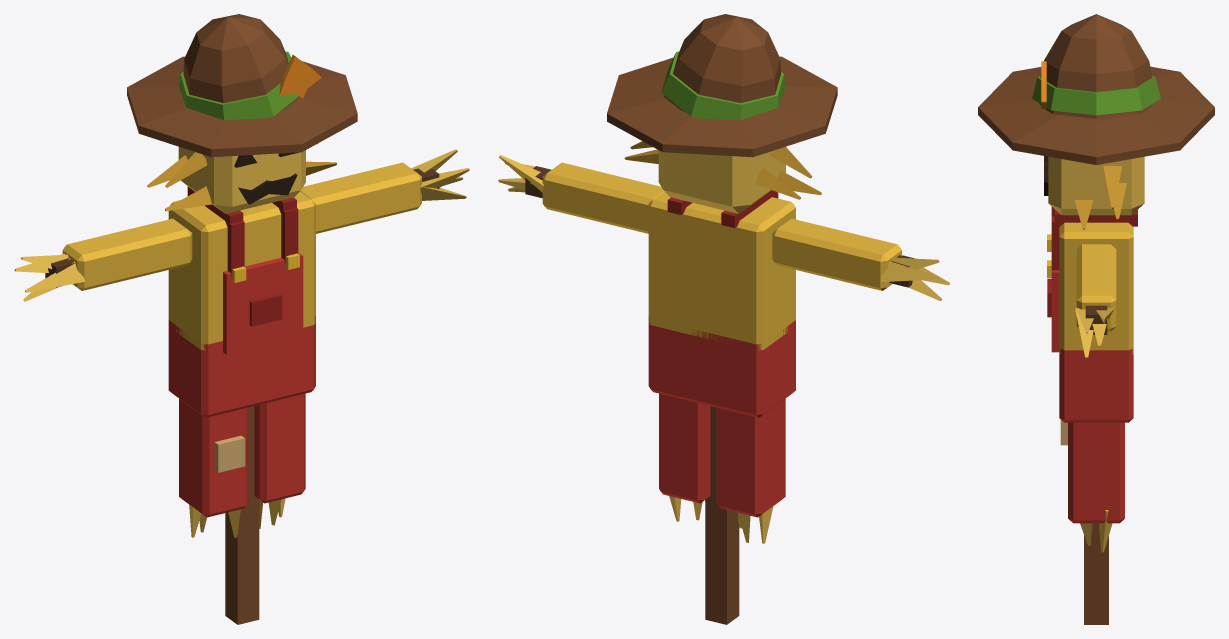
The model's file is scarecrow-red-1x1.glb.
The picture shows the model from 3 angles, left to right: view 1: azimuth 30°, elevation 25°; view 2: azimuth 150°, elevation 25°; view 3: azimuth 270°, elevation 25°; orthographic projection.
Visible parts, largest first — view 1: scarecrow-red-1x1; view 2: scarecrow-red-1x1; view 3: scarecrow-red-1x1.
Part boxes in pixels (<box>): scarecrow-red-1x1: <box>14,14,469,624</box>; scarecrow-red-1x1: <box>498,14,949,624</box>; scarecrow-red-1x1: <box>978,14,1214,624</box>.
Size of the model in its own units: 0.9 by 1.17 by 0.4194.
Materials: 1 (1 with a texture image).
